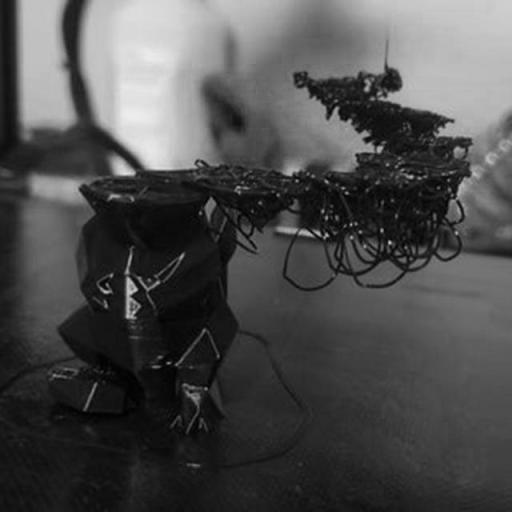spaghetti_and_stringing: (195, 65, 474, 294)
